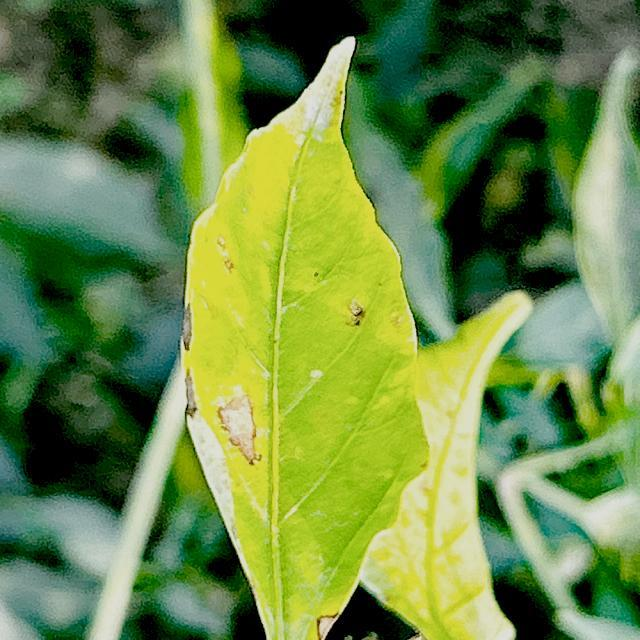Bercak Daun Serkospora: (180, 36, 430, 640)
